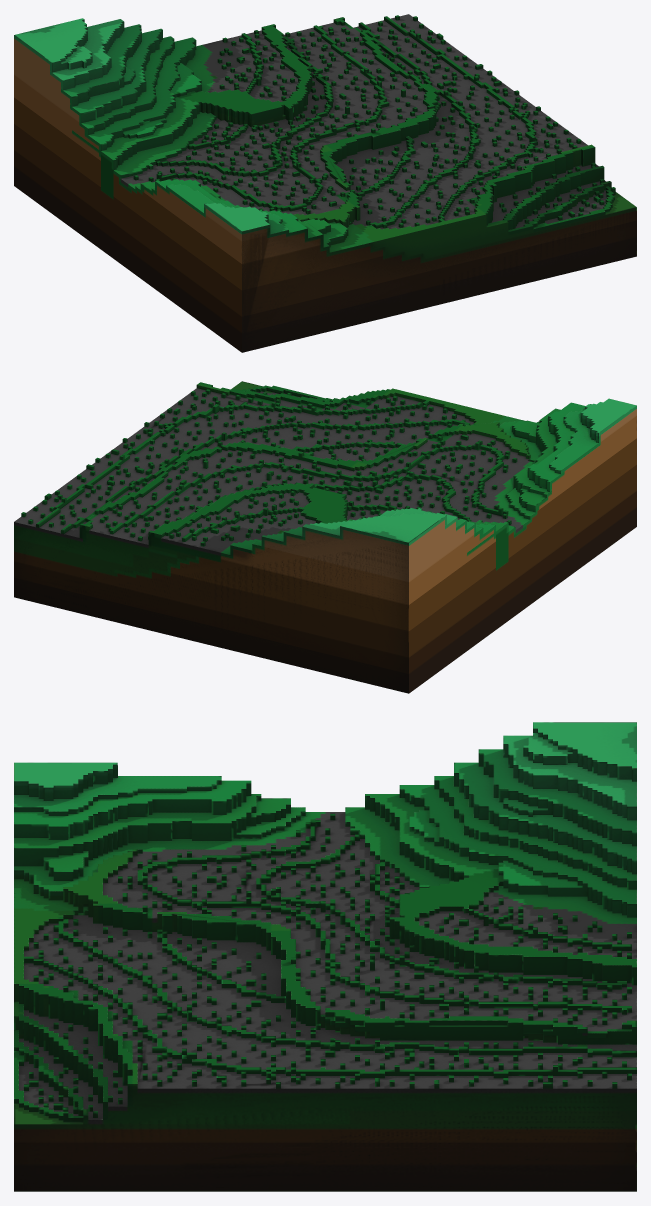
3 views of the same model, one above another, from view 1: azimuth 30°, elevation 25°; view 2: azimuth 150°, elevation 25°; view 3: azimuth 270°, elevation 25° (orthographic). The views are drawn at different scales.
Visible parts, largest first — view 1: _A; view 2: _A; view 3: _A.
Part boxes in pixels (x1,y1,x2,y2): _A: (14,14,636,352); _A: (14,381,636,693); _A: (14,722,636,1191).
Size of the model in its own units: 126 by 126 by 46.
Materials: 1 (1 with a texture image).
